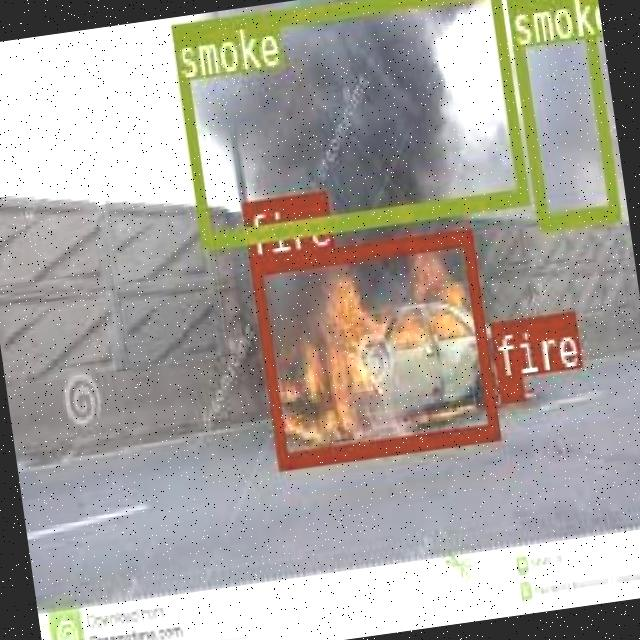fire: (248, 226, 498, 468), (497, 374, 522, 400)
smoke: (169, 0, 526, 246), (504, 0, 618, 227)
